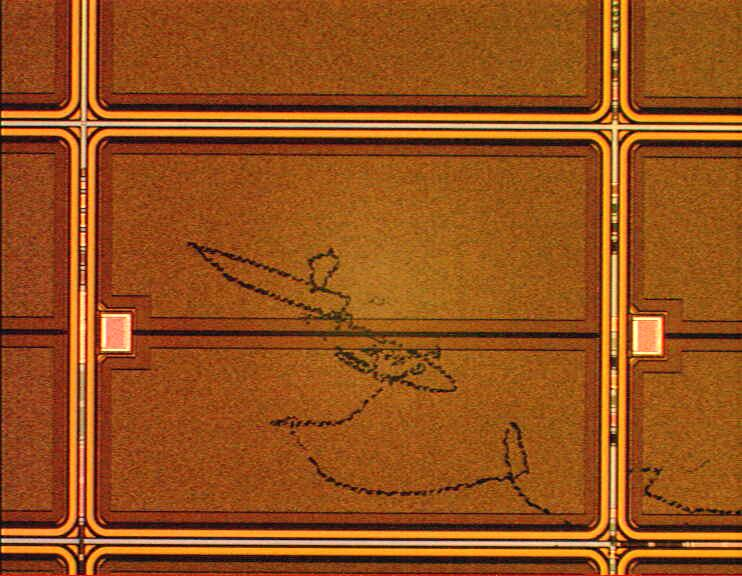SCRATCH: (182, 238, 742, 540)
